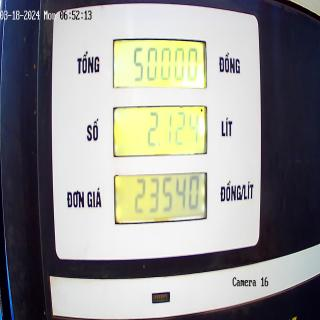screen: (112, 31, 209, 230)
